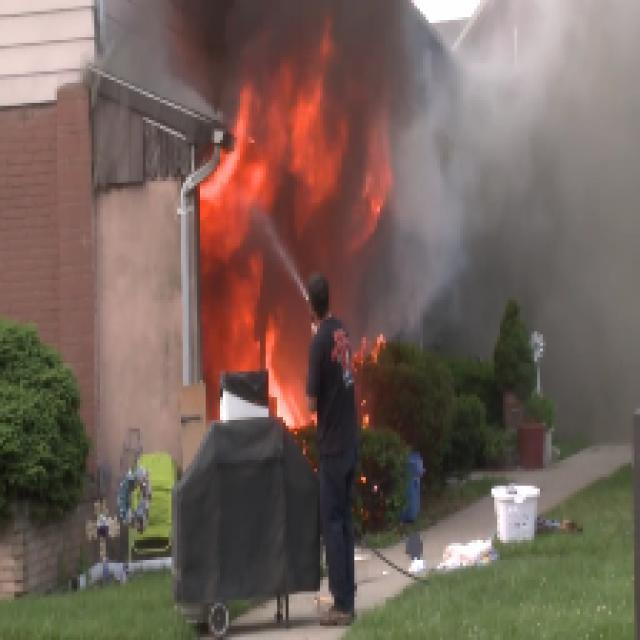Fire: (163, 26, 414, 466)
Smoke: (414, 0, 639, 394)
